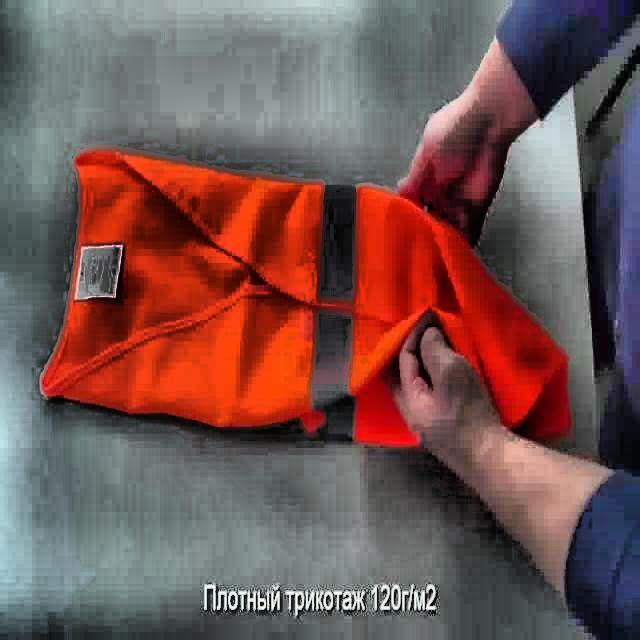safety_jacket: (39, 146, 572, 448)
